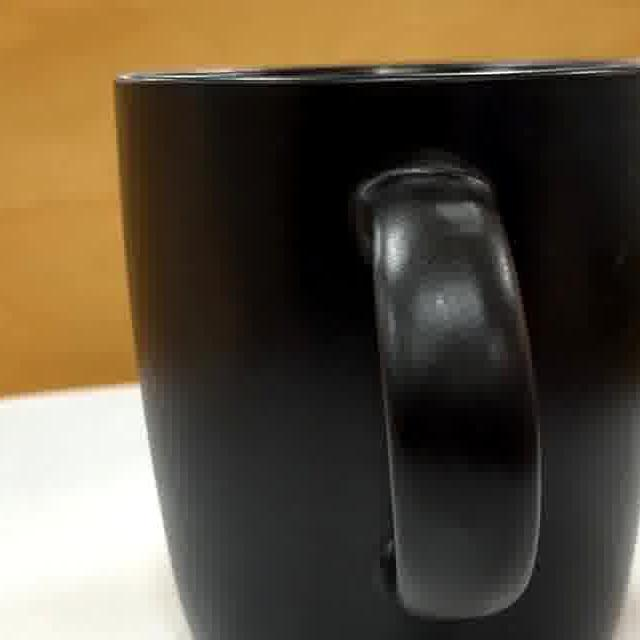cup: (120, 67, 640, 640)
